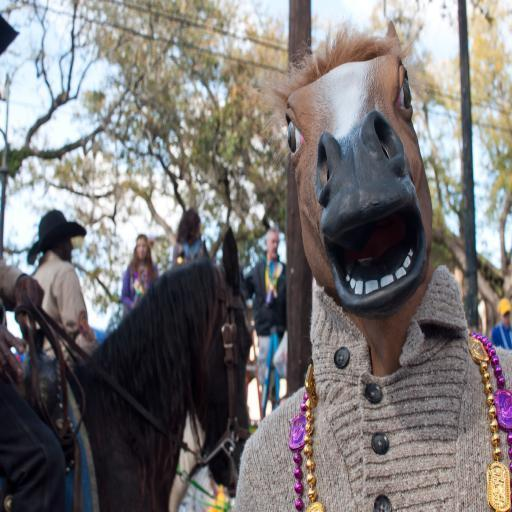horse: (0, 223, 254, 512), (258, 15, 434, 376)
